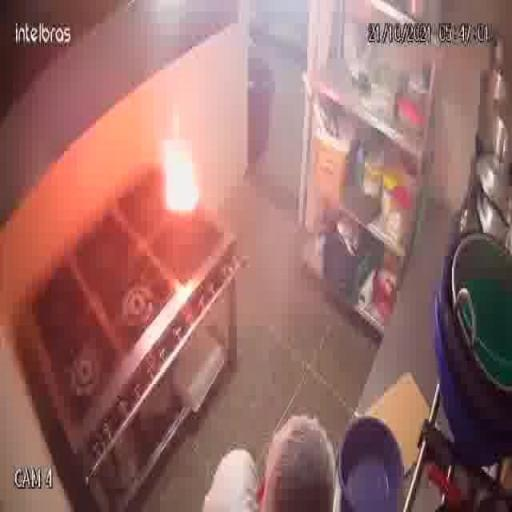smoke: (142, 102, 222, 256)
